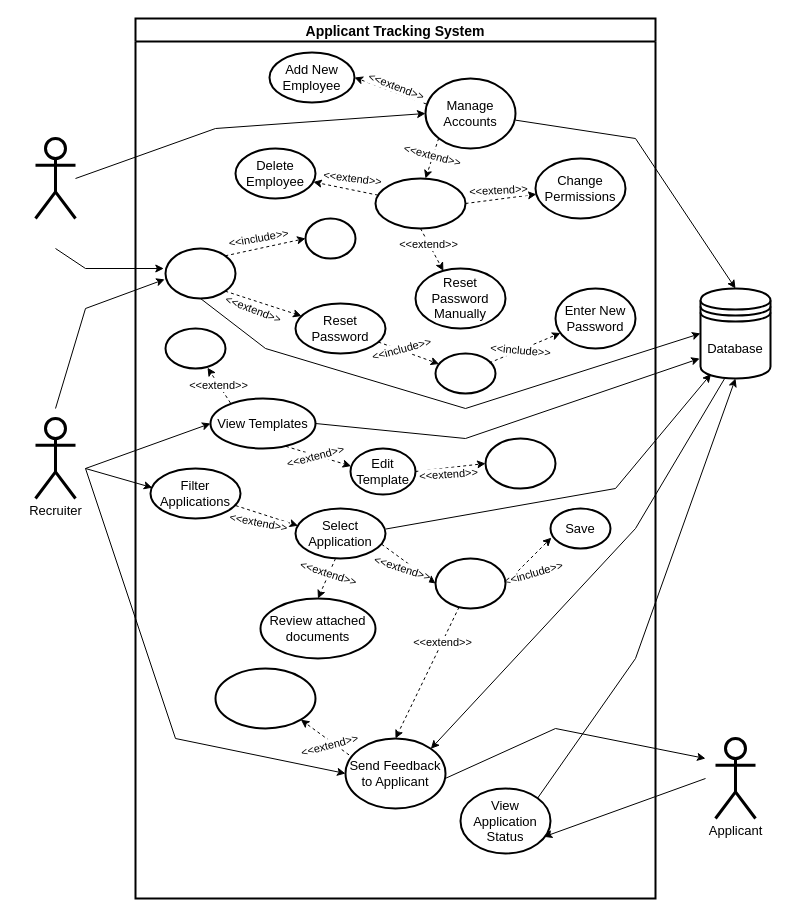
This 789x916 diagram has some shape labels left out. The shapes that lost their labels are listed below. From the top down, each one's centre as x and y in pixels, then its label:
At point 55,178: "Administrator".
At point 420,203: "Edit Account Details".
At point 330,238: "Verify Log In".
At point 200,273: "Log In".
At point 195,348: "Create New".
At point 465,373: "Verify Identity".
At point 520,463: "Delete Template".
At point 470,583: "Generate Feedback".
At point 265,698: "Select Multiple Applicants".
